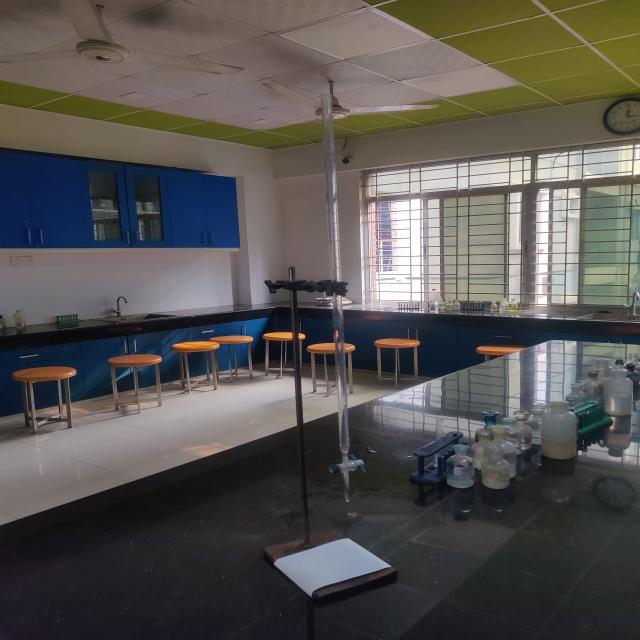Burette_Stands: (213, 243, 431, 626)
